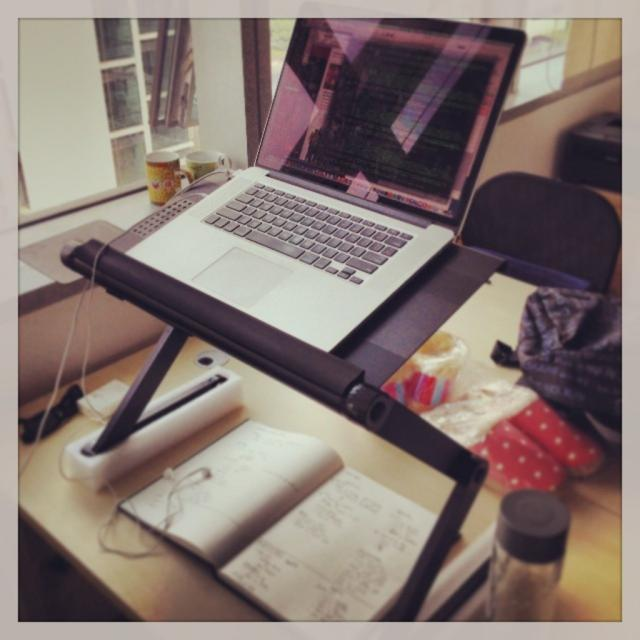chair: (460, 172, 621, 294)
desk: (23, 273, 619, 620)
laptop: (82, 13, 528, 379)
